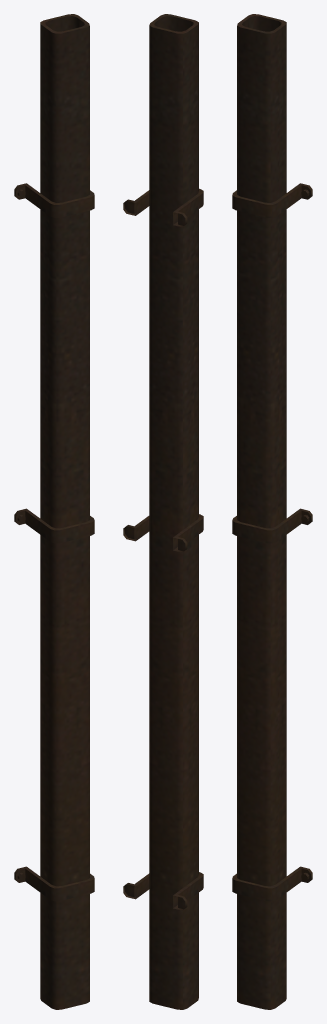
File: rainwater_downpipe_hl_1_middle.obj
3 renders of one model, left to right at view 1: azimuth 30°, elevation 25°; view 2: azimuth 150°, elevation 25°; view 3: azimuth 330°, elevation 25°, orthographic.
Visible parts, largest first — view 1: rainwater_downpipe_hl_1_middle; view 2: rainwater_downpipe_hl_1_middle; view 3: rainwater_downpipe_hl_1_middle.
Part boxes in pixels (left/top/right/bottom): rainwater_downpipe_hl_1_middle: left=14, top=14, right=94, bottom=1009; rainwater_downpipe_hl_1_middle: left=123, top=14, right=203, bottom=1009; rainwater_downpipe_hl_1_middle: left=232, top=14, right=312, bottom=1009.
Bounding box in the file's own units: 0.2 × 3 × 0.17.
